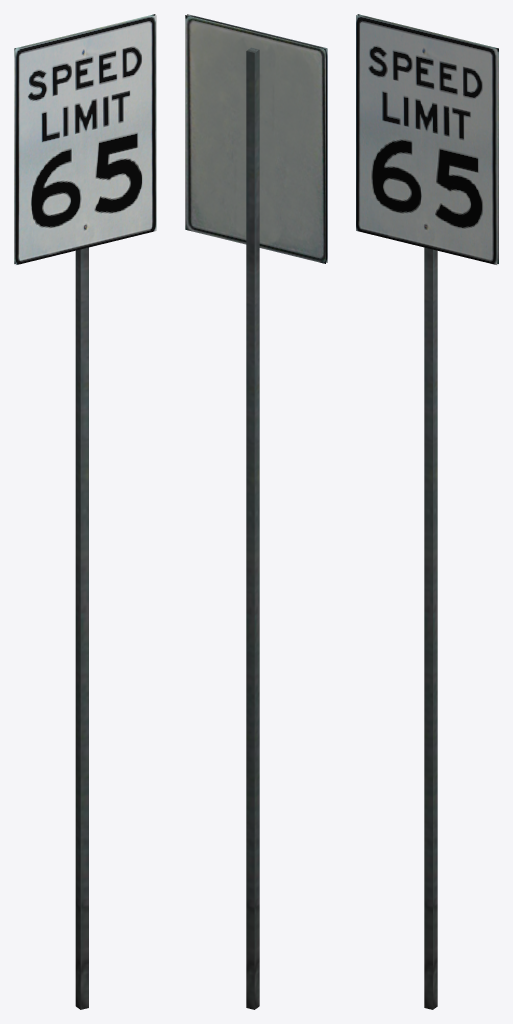
File: speedlimit65.obj
3 renders of one model, left to right at view 1: azimuth 30°, elevation 25°; view 2: azimuth 150°, elevation 25°; view 3: azimuth 330°, elevation 25°, orthographic.
Parts seen in each view (by area): view 1: handicawparking01; view 2: handicawparking01; view 3: handicawparking01.
Boxes of the visible parts, x1,y1,x2,y2 form: handicawparking01: [14, 14, 156, 1009]; handicawparking01: [185, 14, 327, 1009]; handicawparking01: [356, 14, 498, 1009].
Size of the model in its own units: 0.3288 by 2.17 by 0.0262.
Materials: 1 (1 with a texture image).
